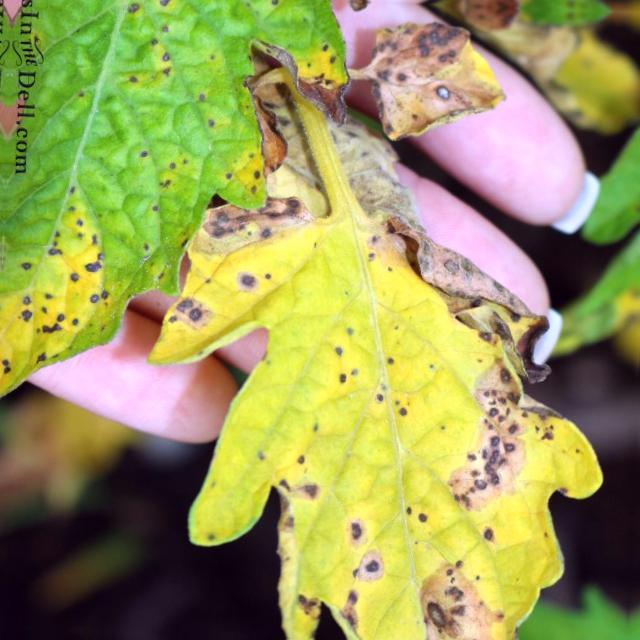Tomato Septoria leaf spot: (177, 181, 603, 634), (0, 0, 342, 411)
